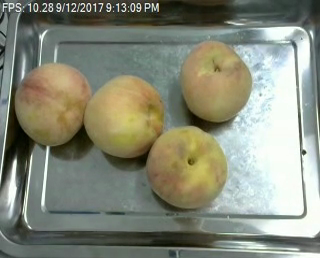Peach: (146, 125, 228, 208), (84, 74, 164, 158), (13, 61, 90, 146), (178, 38, 252, 123)
